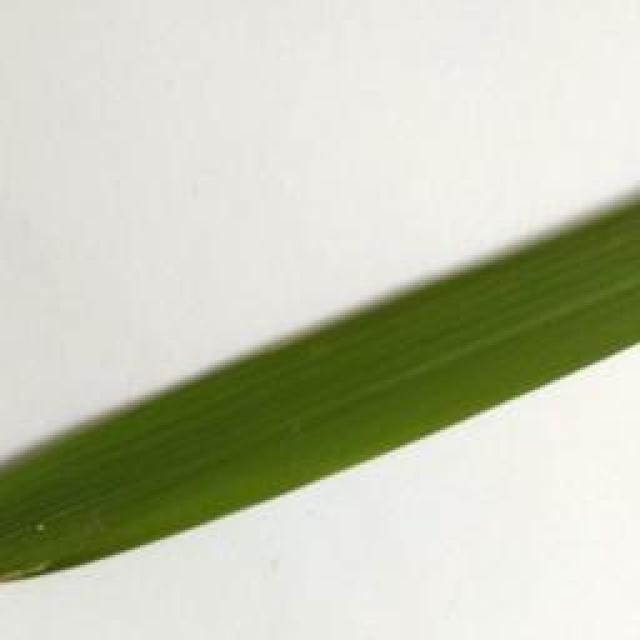Healthy-Plant: (0, 200, 640, 585)
